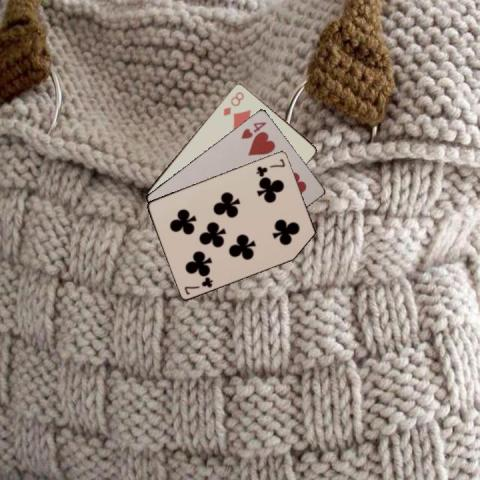4h: (238, 119, 268, 140)
7c: (181, 273, 214, 296), (253, 155, 287, 177)
8d: (220, 89, 245, 117)
